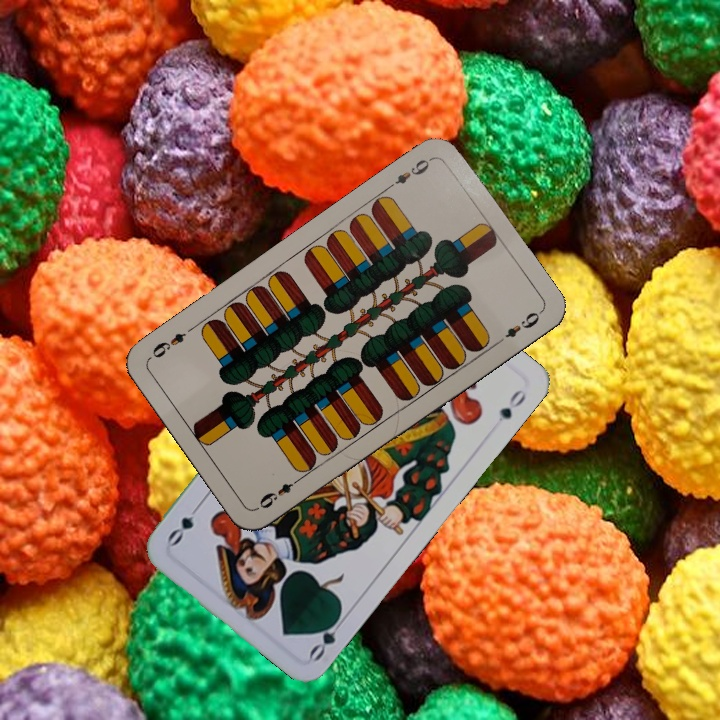E9: (383, 153, 435, 192), (255, 472, 305, 512)
GO: (305, 609, 350, 664)
